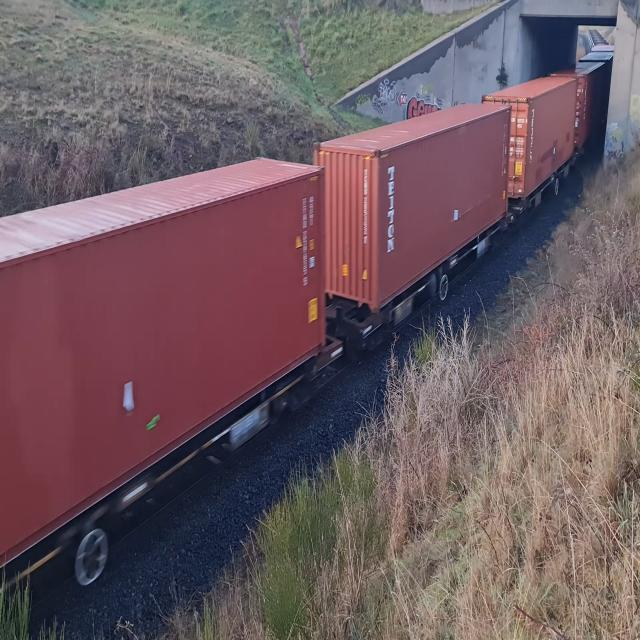container: (0, 148, 326, 622), (314, 92, 516, 345), (480, 72, 580, 207)
